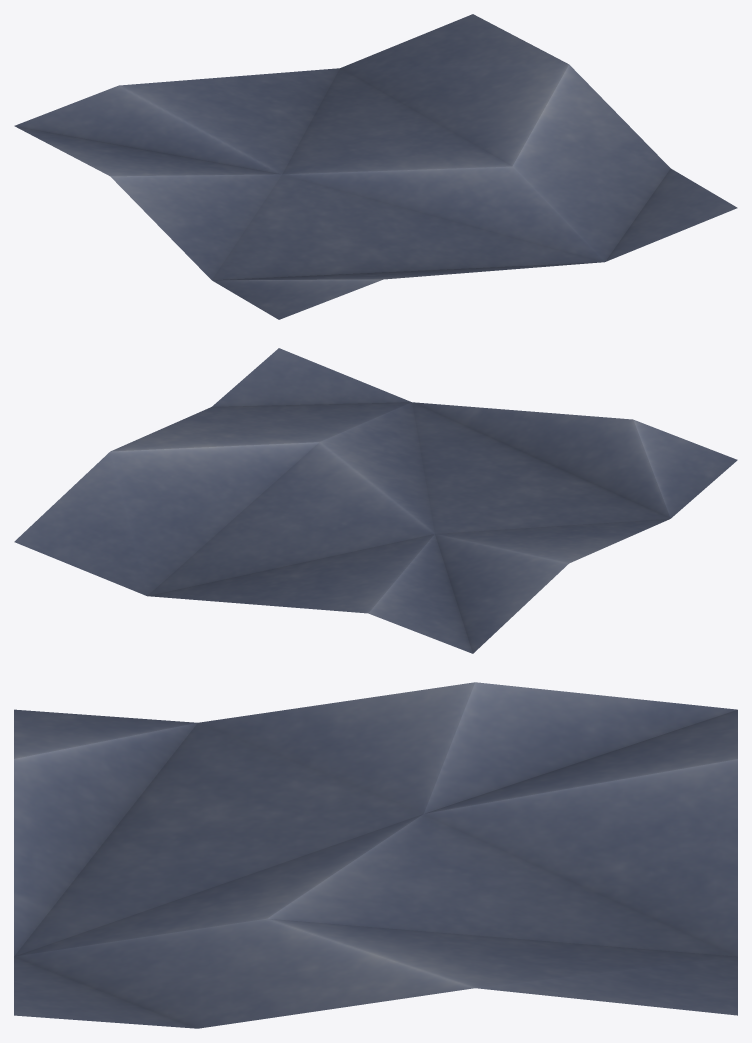
File: SM_Floor_Face_A.fbx
The picture shows the model from 3 angles, top to bottom: view 1: azimuth 30°, elevation 25°; view 2: azimuth 150°, elevation 25°; view 3: azimuth 270°, elevation 25°; orthographic projection. The views are drawn at different scales.
Parts seen in each view (by area): view 1: pCube205; view 2: pCube205; view 3: pCube205.
Boxes of the visible parts, x1,y1,x2,y2 form: pCube205: (14, 14, 737, 319); pCube205: (14, 348, 737, 653); pCube205: (14, 682, 737, 1028).
Bounding box in the file's own units: 1 × 0.087 × 1.
